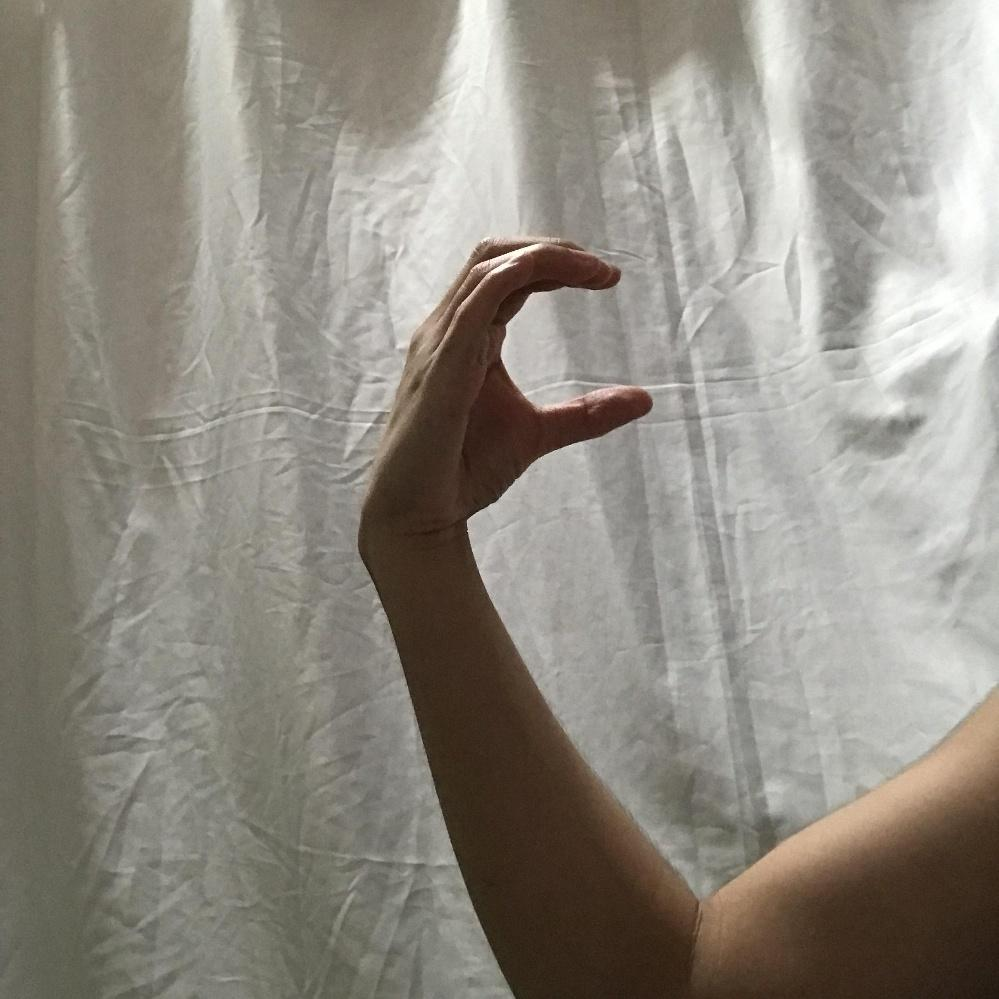c: (357, 239, 655, 534)
